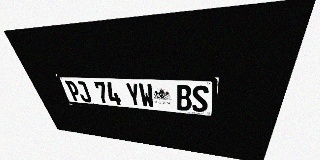4: (104, 82, 122, 105)
7: (93, 81, 111, 104)
B: (176, 85, 191, 111)
J: (74, 81, 92, 103)
P: (65, 80, 82, 102)
S: (192, 85, 209, 113)
W: (138, 83, 155, 108)
Y: (125, 83, 142, 107)
